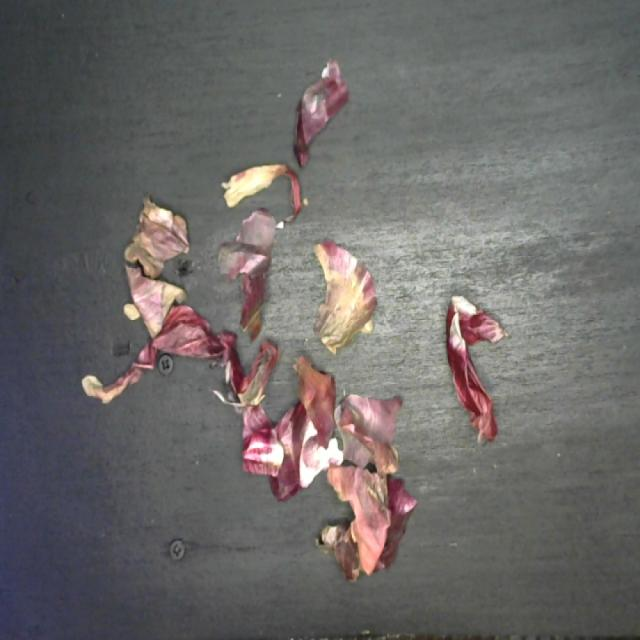biodegradable: (78, 51, 506, 589)
